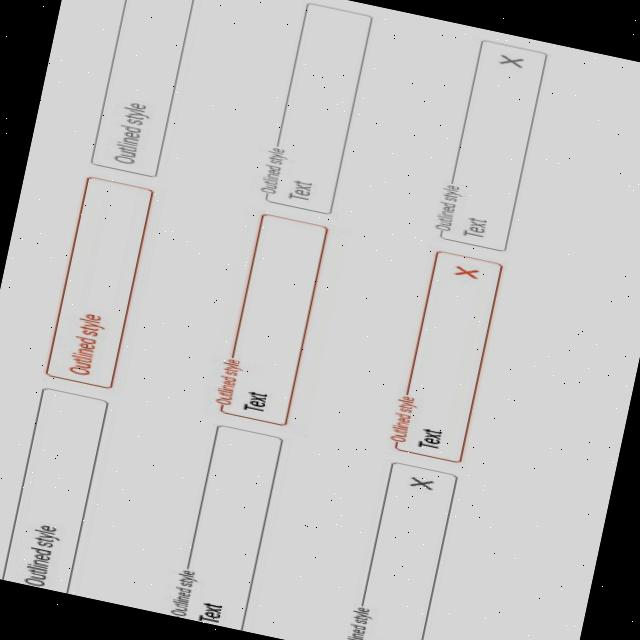VTextField: (384, 246, 507, 464), (429, 35, 550, 253), (211, 210, 332, 427), (257, 0, 376, 215), (166, 420, 286, 632), (41, 173, 157, 390), (0, 383, 114, 594), (343, 458, 461, 640), (86, 0, 202, 178)
